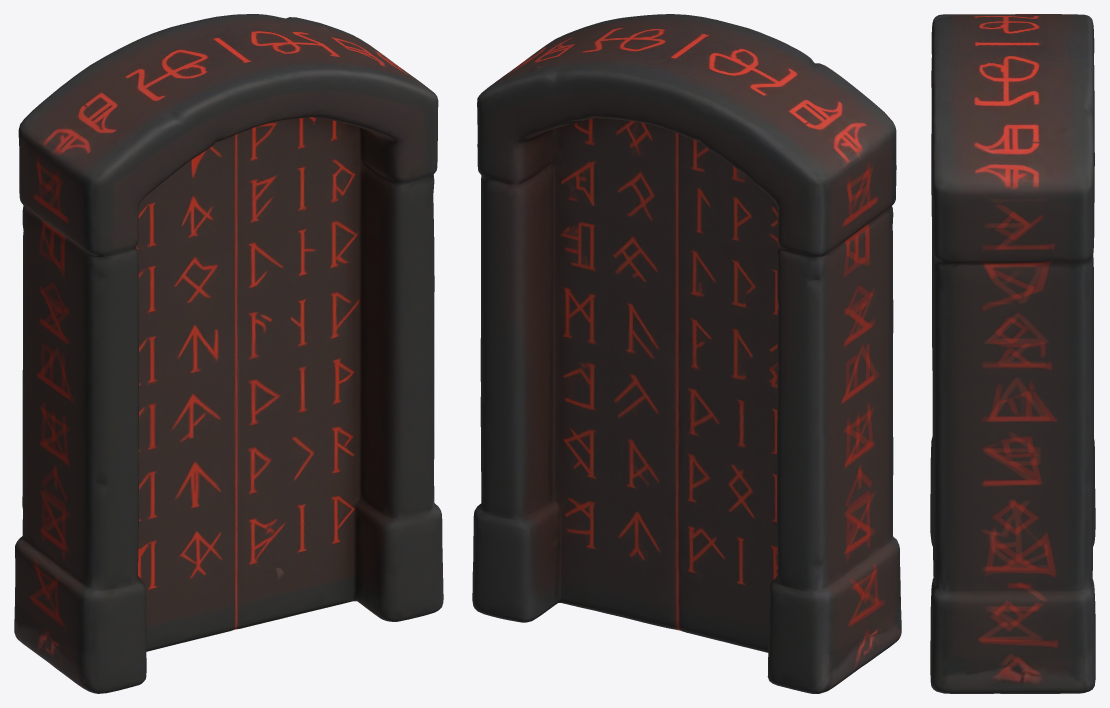
The model's file is runic_door_sealed.glb.
The picture shows the model from 3 angles, left to right: view 1: azimuth 30°, elevation 25°; view 2: azimuth 150°, elevation 25°; view 3: azimuth 270°, elevation 25°; orthographic projection.
Bounding box in the file's own units: 1.31 × 2 × 0.5268.
1 material, 1 textured.
